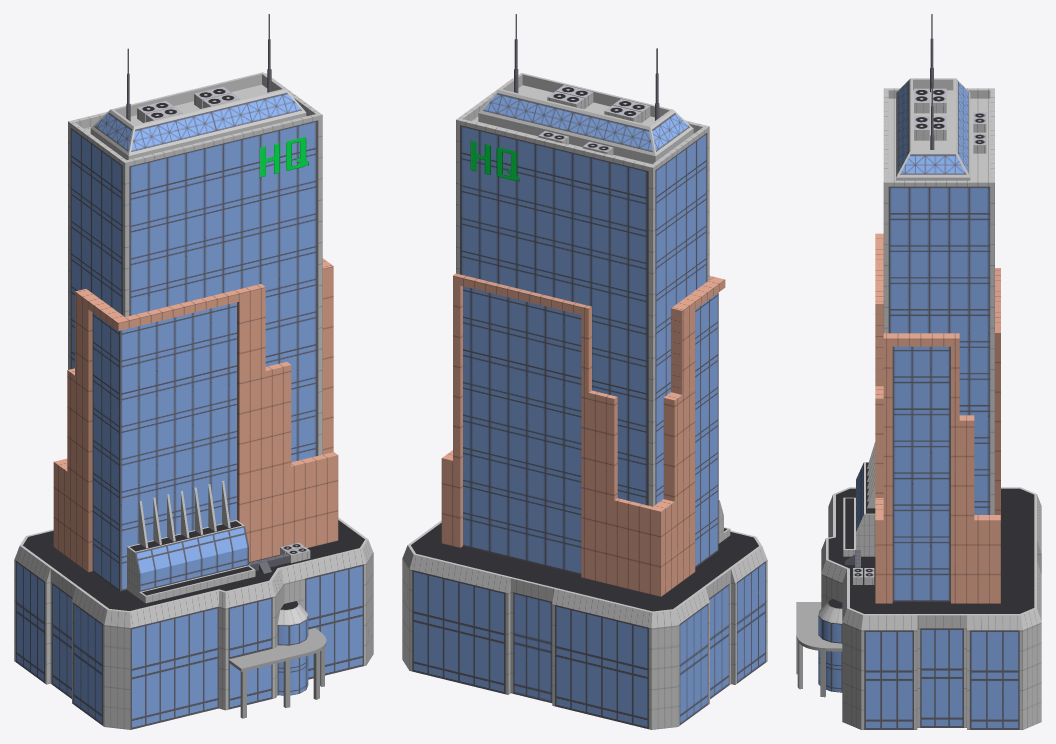
File: BVR Luxury Tower_01_Parts.FBX
3 renders of one model, left to right at view 1: azimuth 30°, elevation 25°; view 2: azimuth 150°, elevation 25°; view 3: azimuth 270°, elevation 25°, orthographic. The views are drawn at different scales.
Visible parts, largest first — view 1: BVR Luxury Tower_Part1, BVR Luxury Tower_Part5, BVR Luxury Tower_Part2, BVR Luxury Tower_Part3, BVR Luxury Tower_Part4, BVR Luxury Tower_Part6; view 2: BVR Luxury Tower_Part1, BVR Luxury Tower_Part5, BVR Luxury Tower_Part2, BVR Luxury Tower_Part3, BVR Luxury Tower_Part4, BVR Luxury Tower_Part6; view 3: BVR Luxury Tower_Part1, BVR Luxury Tower_Part2, BVR Luxury Tower_Part5, BVR Luxury Tower_Part3, BVR Luxury Tower_Part4, BVR Luxury Tower_Part6.
Boxes of the visible parts, x1,y1,x2,y2 form: BVR Luxury Tower_Part1: [14, 517, 373, 729]; BVR Luxury Tower_Part5: [68, 73, 322, 316]; BVR Luxury Tower_Part2: [23, 452, 364, 610]; BVR Luxury Tower_Part3: [67, 350, 333, 505]; BVR Luxury Tower_Part4: [68, 258, 333, 404]; BVR Luxury Tower_Part6: [90, 14, 306, 159]; BVR Luxury Tower_Part1: [402, 520, 767, 729]; BVR Luxury Tower_Part5: [456, 78, 709, 321]; BVR Luxury Tower_Part2: [411, 450, 758, 611]; BVR Luxury Tower_Part3: [453, 359, 718, 506]; BVR Luxury Tower_Part4: [453, 273, 725, 405]; BVR Luxury Tower_Part6: [478, 14, 693, 163]; BVR Luxury Tower_Part1: [796, 487, 1041, 729]; BVR Luxury Tower_Part2: [828, 442, 1034, 613]; BVR Luxury Tower_Part5: [883, 88, 994, 333]; BVR Luxury Tower_Part3: [875, 386, 1000, 520]; BVR Luxury Tower_Part4: [875, 233, 1000, 420]; BVR Luxury Tower_Part6: [896, 14, 986, 180].
Bounding box in the file's own units: 10.31 × 22.46 × 8.12.
